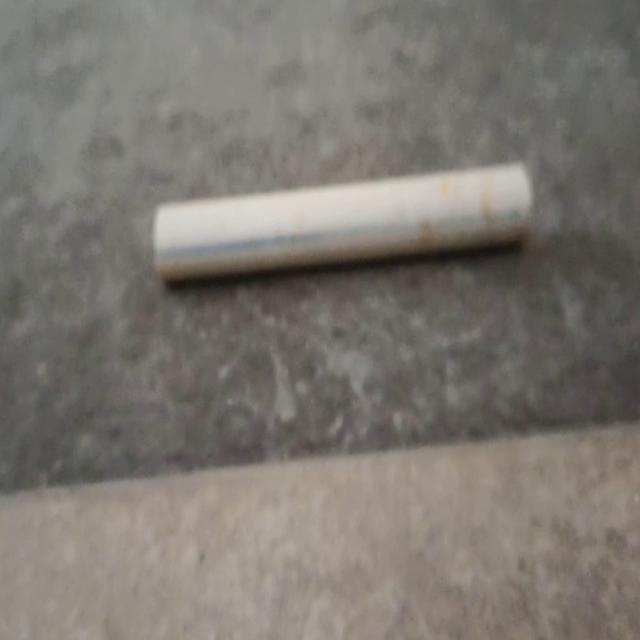Cube: (151, 158, 534, 284)
